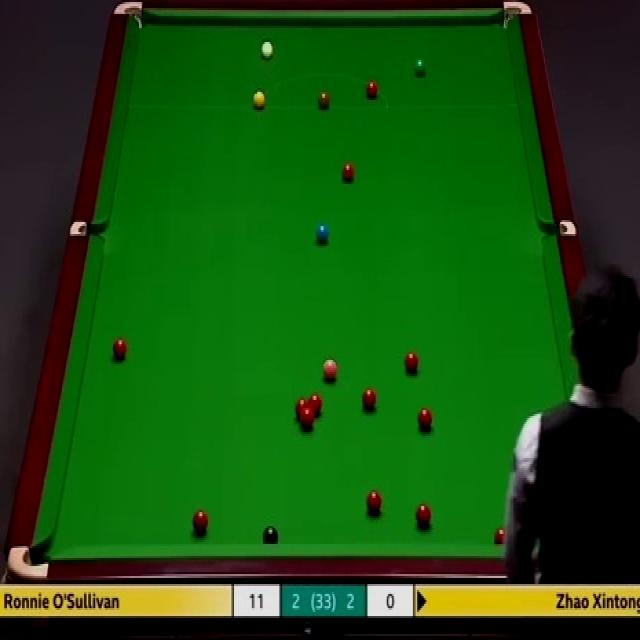black-ball: (262, 523, 280, 545)
blue-ball: (315, 222, 329, 245)
brown-ball: (316, 88, 330, 111)
green-ball: (412, 58, 427, 78)
pink-ball: (323, 354, 338, 382)
red-ball: (403, 349, 420, 378), (111, 336, 128, 363), (414, 503, 431, 529), (366, 489, 382, 515), (417, 405, 432, 430), (361, 387, 376, 412), (194, 508, 208, 534), (308, 394, 322, 418), (341, 162, 356, 184), (494, 526, 508, 546), (301, 410, 314, 430), (295, 398, 308, 418), (365, 80, 378, 98)
white-ball: (260, 40, 274, 62)
yellow-ball: (252, 89, 265, 109)
